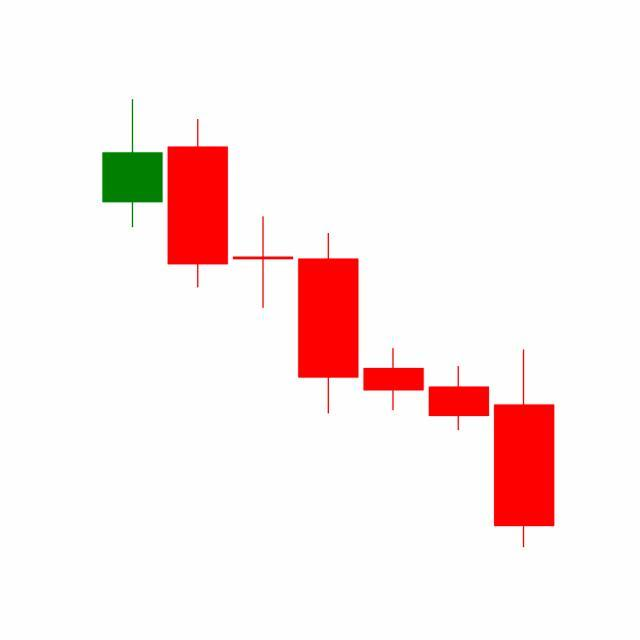Hikkake Pattern: (165, 116, 492, 434)
